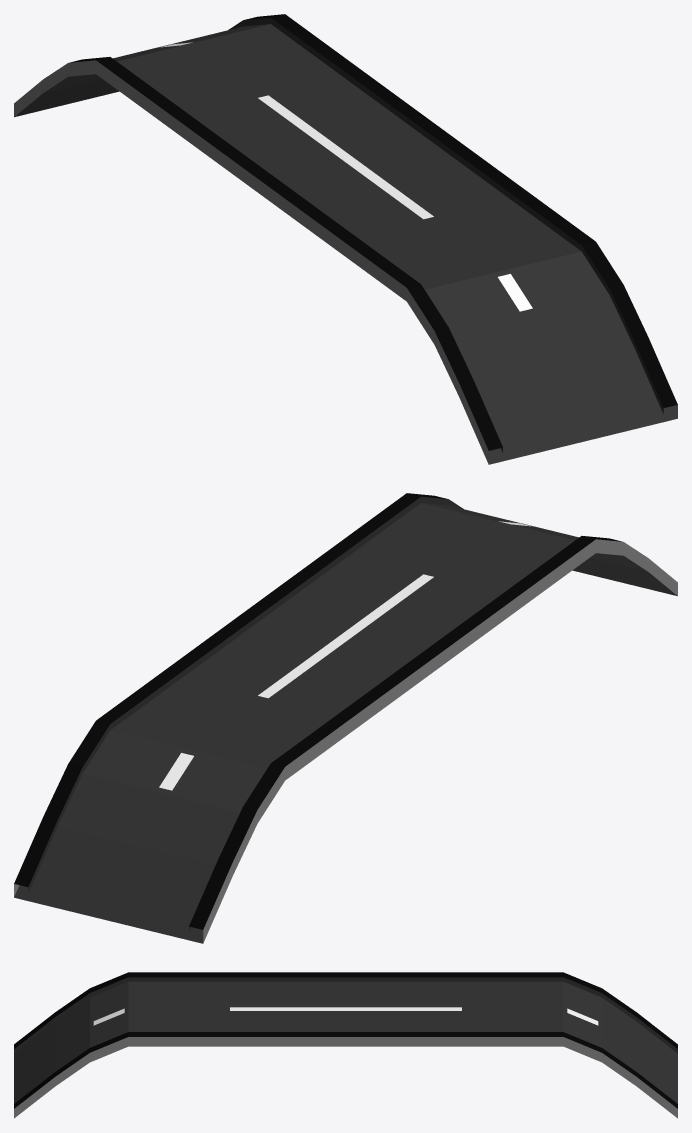
File: RoadBridge.fbx
The picture shows the model from 3 angles, top to bottom: view 1: azimuth 30°, elevation 25°; view 2: azimuth 150°, elevation 25°; view 3: azimuth 270°, elevation 25°; orthographic projection. The views are drawn at different scales.
Parts seen in each view (by area): view 1: Cube; view 2: Cube; view 3: Cube.
Part boxes in pixels (x1,y1,x2,y2): Cube: (14, 14, 677, 464); Cube: (14, 493, 677, 943); Cube: (14, 972, 677, 1118).
Size of the model in its own units: 345 by 204 by 1501.
1 material, 1 textured.
